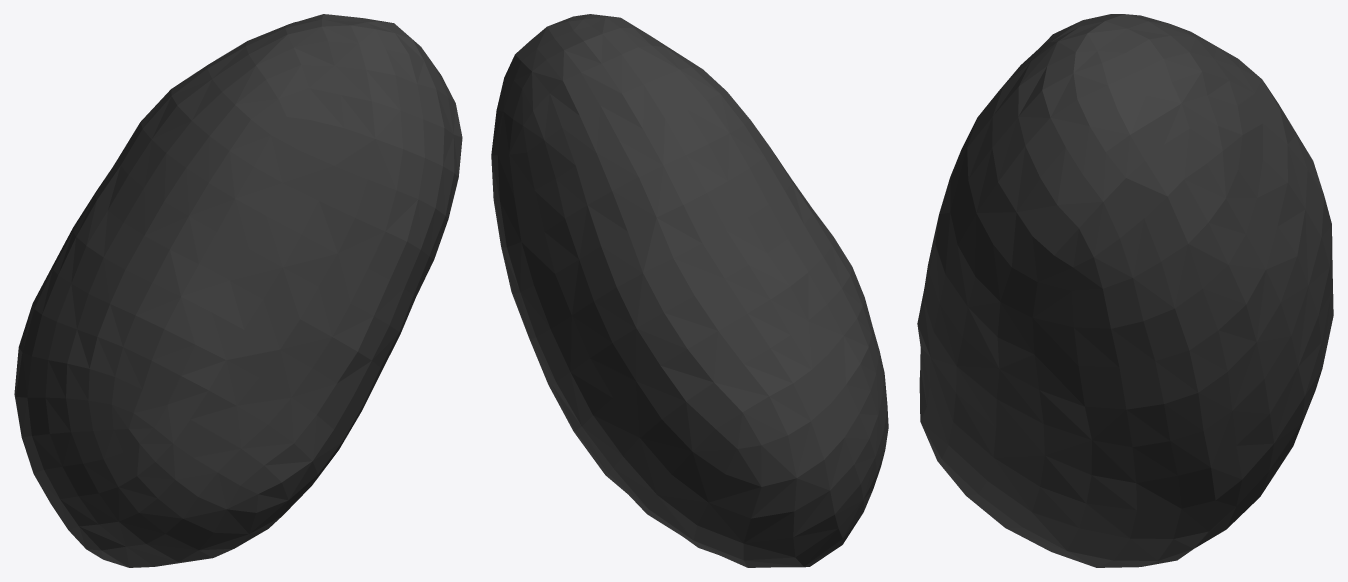
File: dorsal_sesamoid_III_L.glb
The picture shows the model from 3 angles, left to right: view 1: azimuth 30°, elevation 25°; view 2: azimuth 150°, elevation 25°; view 3: azimuth 270°, elevation 25°; orthographic projection. The views are drawn at different scales.
Visible parts, largest first — view 1: dorsal_sesamoid_III_L; view 2: dorsal_sesamoid_III_L; view 3: dorsal_sesamoid_III_L.
Part boxes in pixels (x1,y1,x2,y2): dorsal_sesamoid_III_L: [14, 14, 462, 567]; dorsal_sesamoid_III_L: [491, 14, 888, 567]; dorsal_sesamoid_III_L: [917, 14, 1333, 567].
Size of the model in its own units: 0.00556 by 0.00684 by 0.00415.
Materials: 1 (1 with a texture image).
